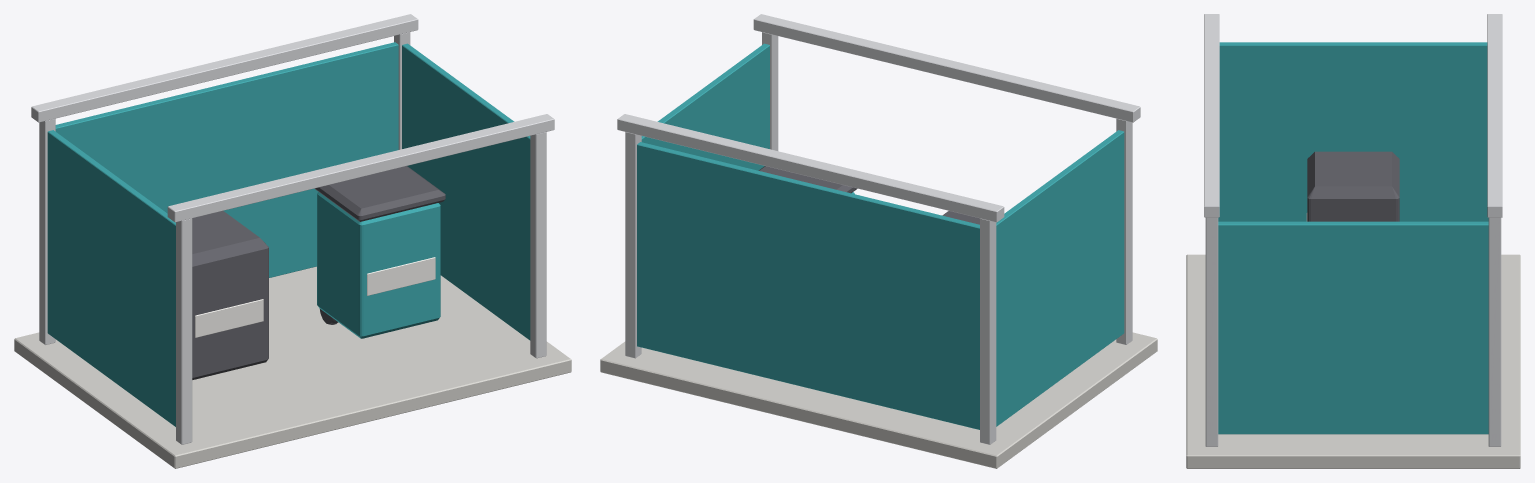
The model's file is motorway-services-and-truck-park-service-yard-bin-stor-2e4decdc__35975.glb.
The picture shows the model from 3 angles, left to right: view 1: azimuth 30°, elevation 25°; view 2: azimuth 150°, elevation 25°; view 3: azimuth 270°, elevation 25°; orthographic projection. The views are drawn at different scales.
Visible parts, largest first — view 1: service-yard-bin-store, store-lid; view 2: service-yard-bin-store, store-lid; view 3: service-yard-bin-store.
Boxes of the visible parts, bbox=[...] form: service-yard-bin-store: bbox=[14, 14, 571, 468]; store-lid: bbox=[314, 166, 445, 221]; service-yard-bin-store: bbox=[600, 14, 1157, 468]; store-lid: bbox=[758, 166, 857, 193]; service-yard-bin-store: bbox=[1186, 14, 1520, 468].
Bounding box in the file's own units: 3.7 × 2.22 × 2.6.
